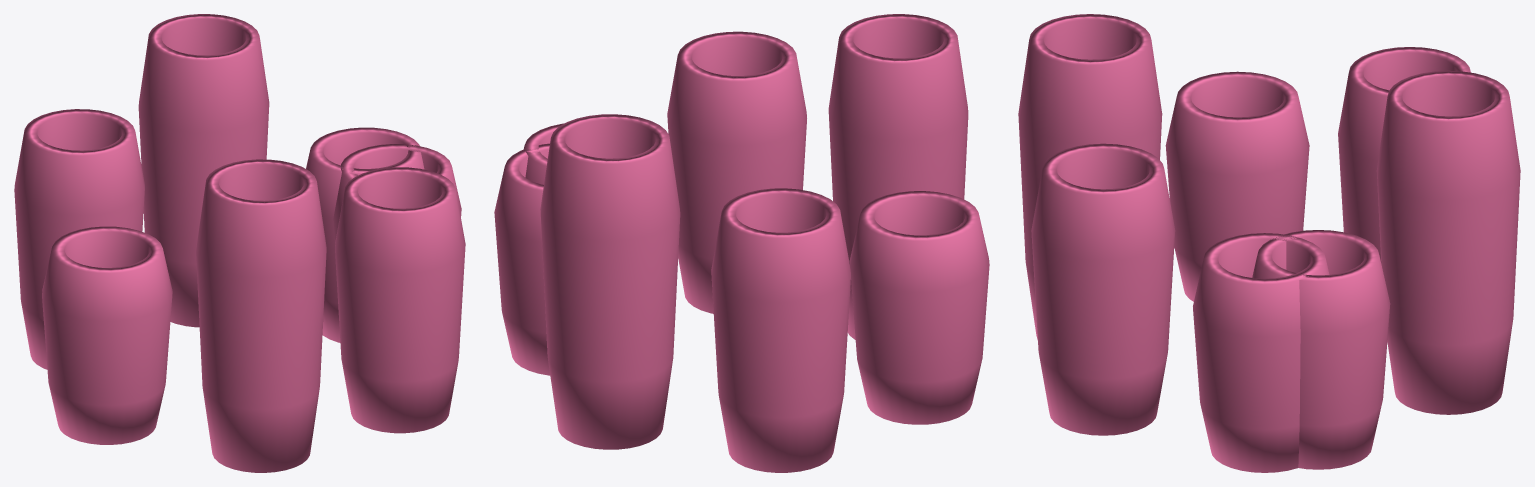
The model's file is underwater-reef-worlds-sea-squirts-4a41bb5e__7030.glb.
3 renders of one model, left to right at view 1: azimuth 30°, elevation 25°; view 2: azimuth 150°, elevation 25°; view 3: azimuth 270°, elevation 25°, orthographic. The views are drawn at different scales.
Parts seen in each view (by area): view 1: sea-squirts; view 2: sea-squirts; view 3: sea-squirts.
Part boxes in pixels (x1,y1,x2,y2): sea-squirts: [14, 14, 465, 472]; sea-squirts: [494, 14, 989, 472]; sea-squirts: [1018, 14, 1520, 472].
Bounding box in the file's own units: 0.548 × 0.34 × 0.5237.
